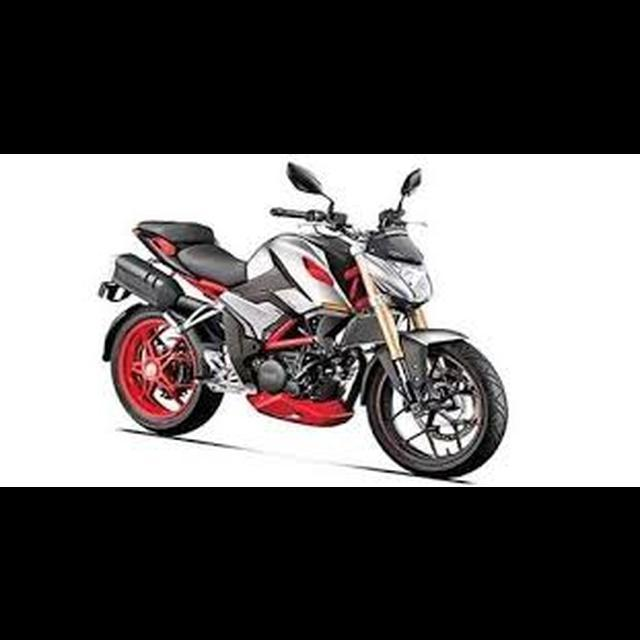motorcycle: (93, 157, 510, 480)
